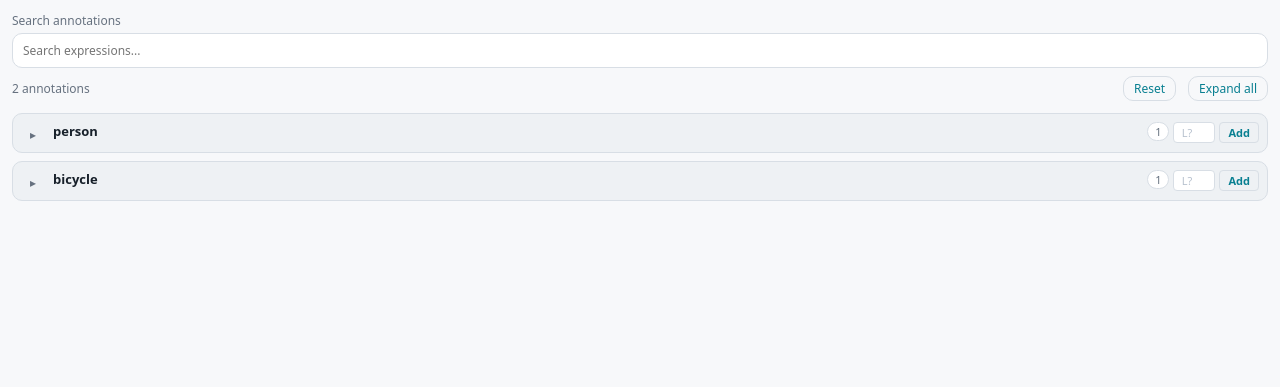
Scenario: unfolds a category only from the arrow left of its expression
Click the button named "Toggle person boxes" at (33, 134), box [21,122,45,146]
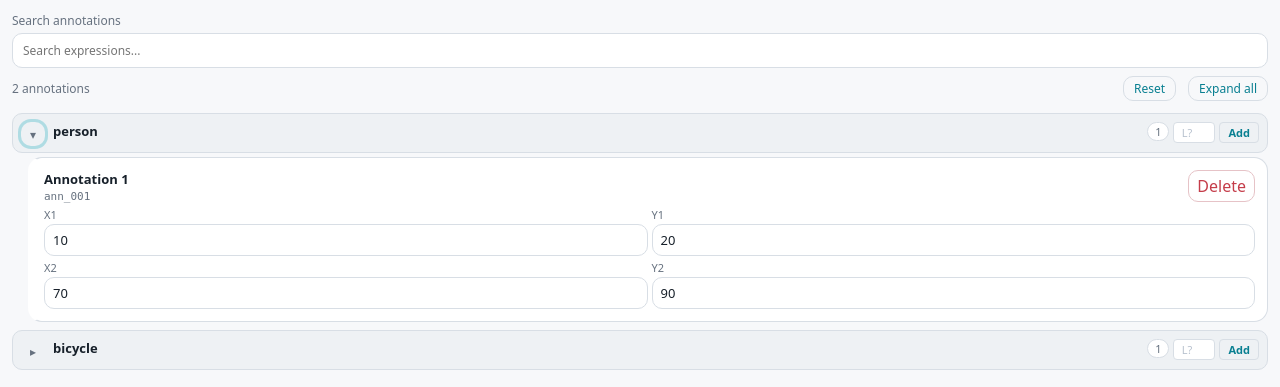
Expected: the button named "Toggle person boxes" is expanded
Click the button named "Toggle person boxes" at (33, 134), box [21,122,45,146]
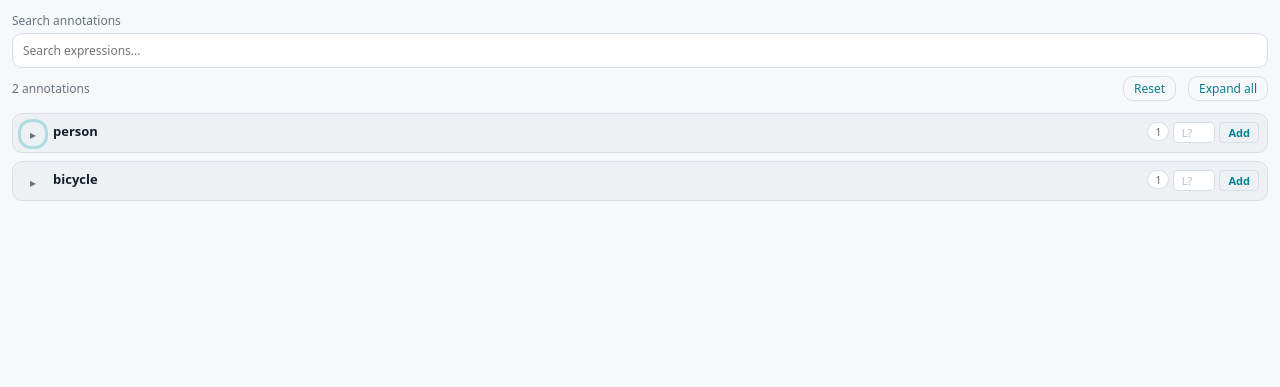
Expected: the button named "Toggle person boxes" is collapsed, [21,122,45,146]
